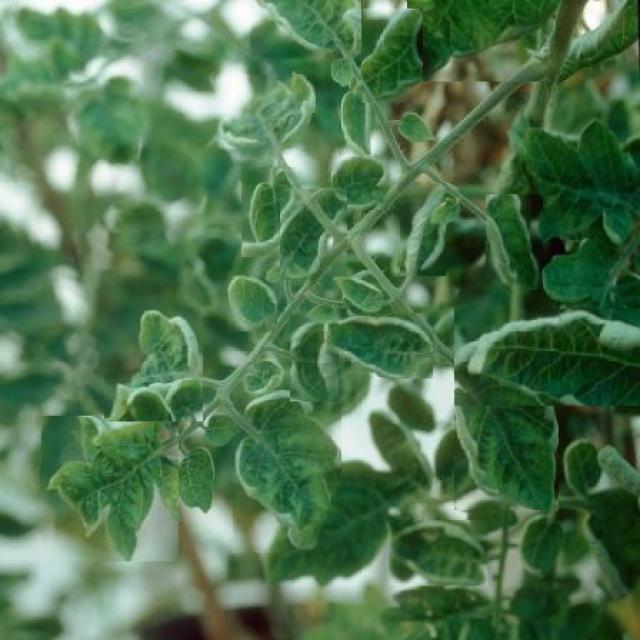Yellow Leaf Curl Virus: (42, 416, 179, 561), (454, 308, 640, 406), (233, 388, 341, 553), (454, 370, 559, 510), (407, 0, 556, 81), (104, 307, 203, 422), (216, 74, 316, 149), (319, 313, 434, 378), (251, 0, 363, 59), (389, 521, 487, 586), (280, 189, 347, 280), (361, 8, 423, 103), (486, 194, 543, 290), (242, 167, 302, 257), (291, 314, 339, 402), (401, 183, 446, 276), (330, 154, 390, 210), (227, 272, 277, 331), (339, 87, 374, 156)
